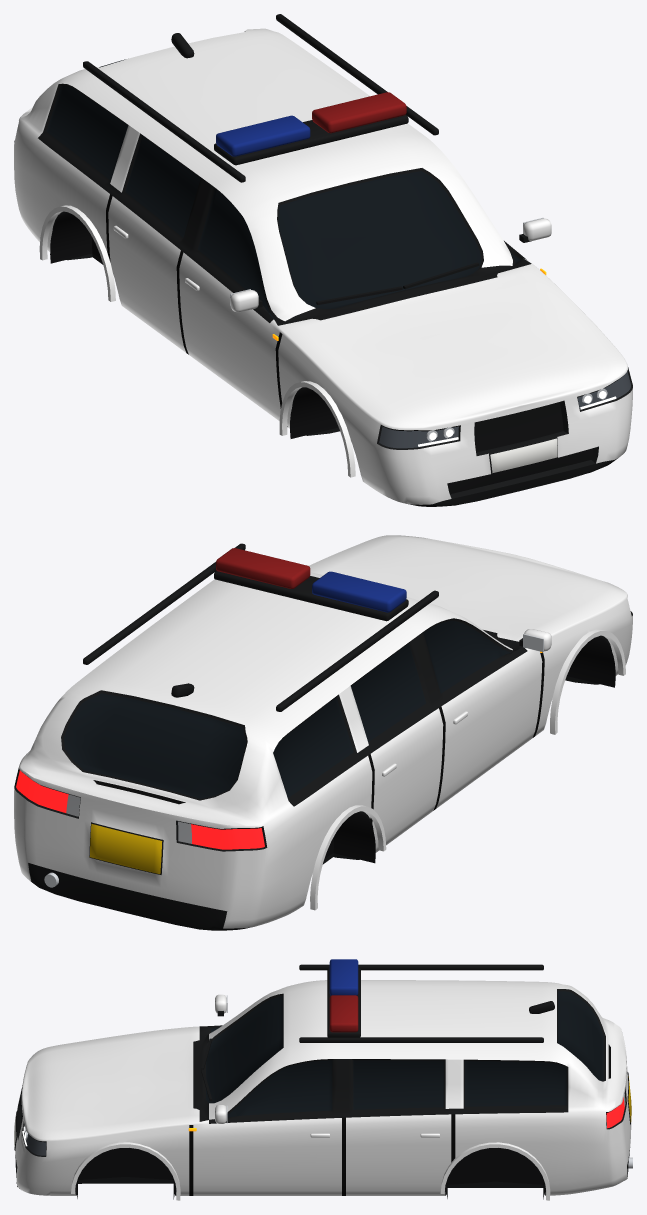
File: police.glb
3 renders of one model, top to bottom at view 1: azimuth 30°, elevation 25°; view 2: azimuth 150°, elevation 25°; view 3: azimuth 270°, elevation 25°, orthographic. The views are drawn at different scales.
Parts seen in each view (by area): view 1: police; view 2: police; view 3: police.
Boxes of the visible parts, x1,y1,x2,y2 form: police: (14, 14, 632, 506); police: (14, 535, 632, 930); police: (14, 959, 632, 1200).
Size of the model in its own units: 2.18 by 1.42 by 4.77.
